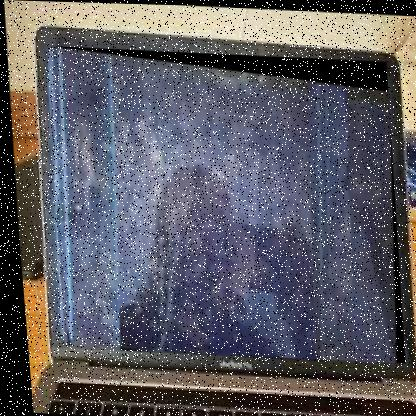fade: (42, 45, 406, 362)
lines: (39, 45, 131, 348), (300, 55, 364, 355)
